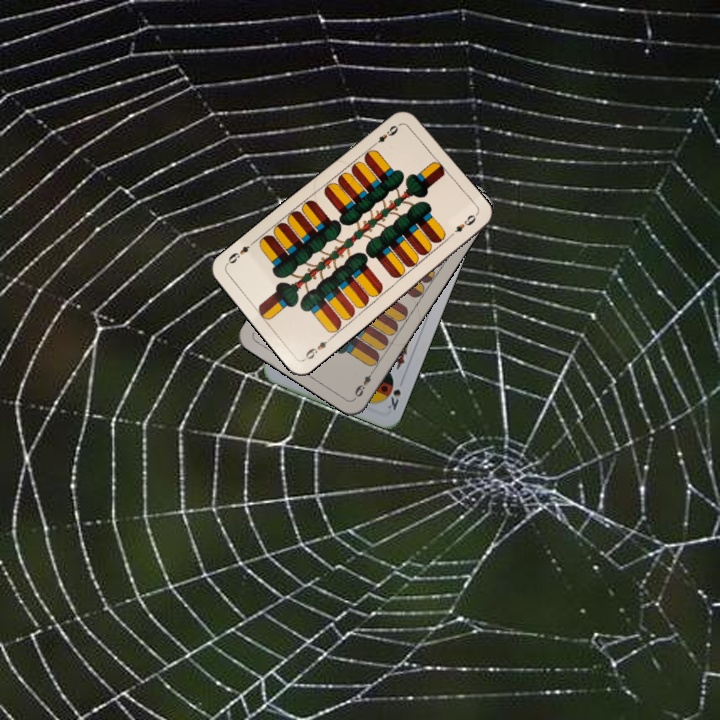E9: (300, 333, 334, 363), (350, 365, 378, 401), (369, 121, 401, 149)
SK: (384, 375, 406, 413)
